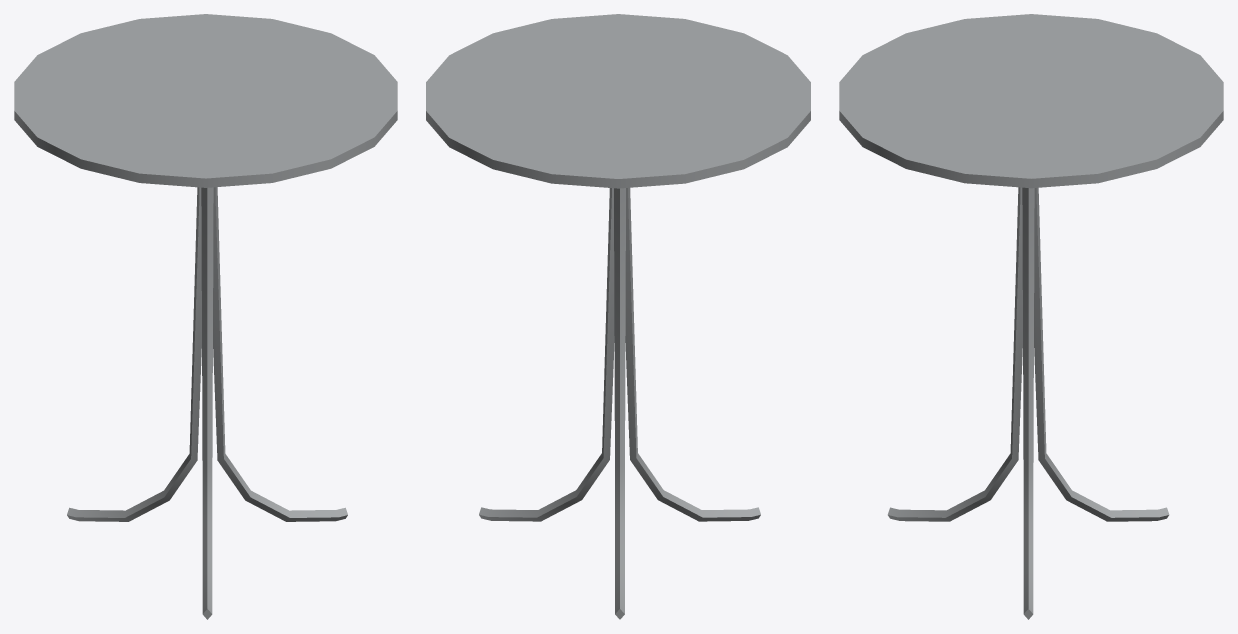
File: SM_table_cafe_02.fbx
The picture shows the model from 3 angles, left to right: view 1: azimuth 30°, elevation 25°; view 2: azimuth 150°, elevation 25°; view 3: azimuth 270°, elevation 25°; orthographic projection.
Parts seen in each view (by area): view 1: Line023; view 2: Line023; view 3: Line023.
Boxes of the visible parts, x1=… form: Line023: x1=14, y1=14, x2=397, y2=619; Line023: x1=426, y1=14, x2=810, y2=619; Line023: x1=839, y1=14, x2=1223, y2=619.
Size of the model in its own units: 29.27 by 28.83 by 37.76.
